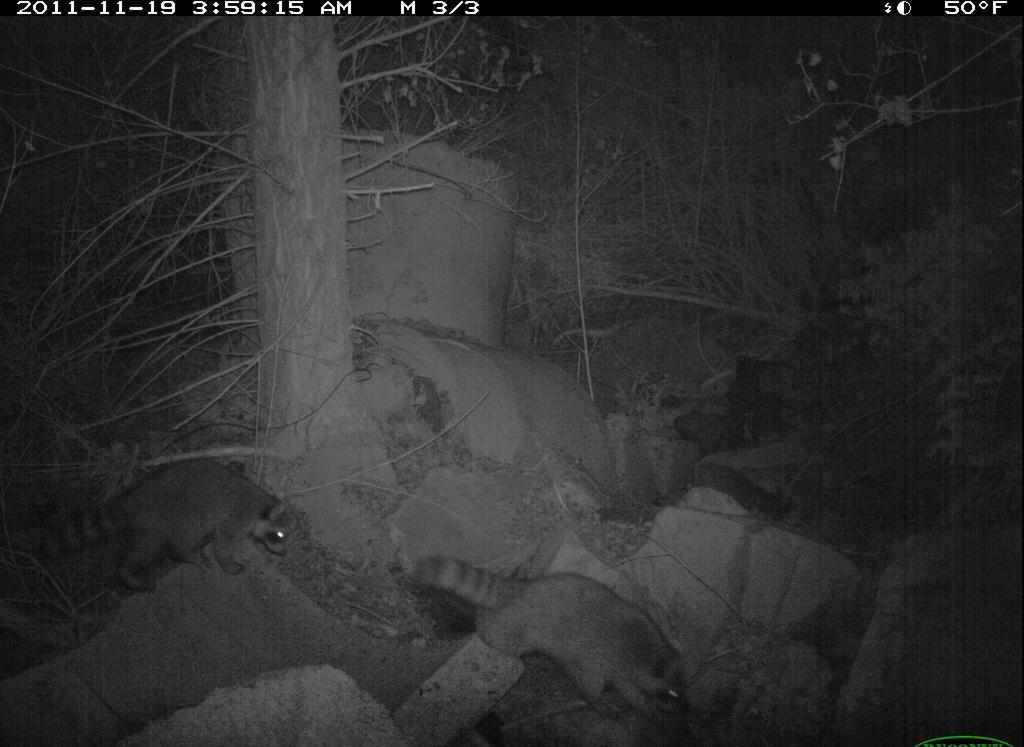raccoon: (400, 556, 697, 737), (48, 460, 294, 603)
